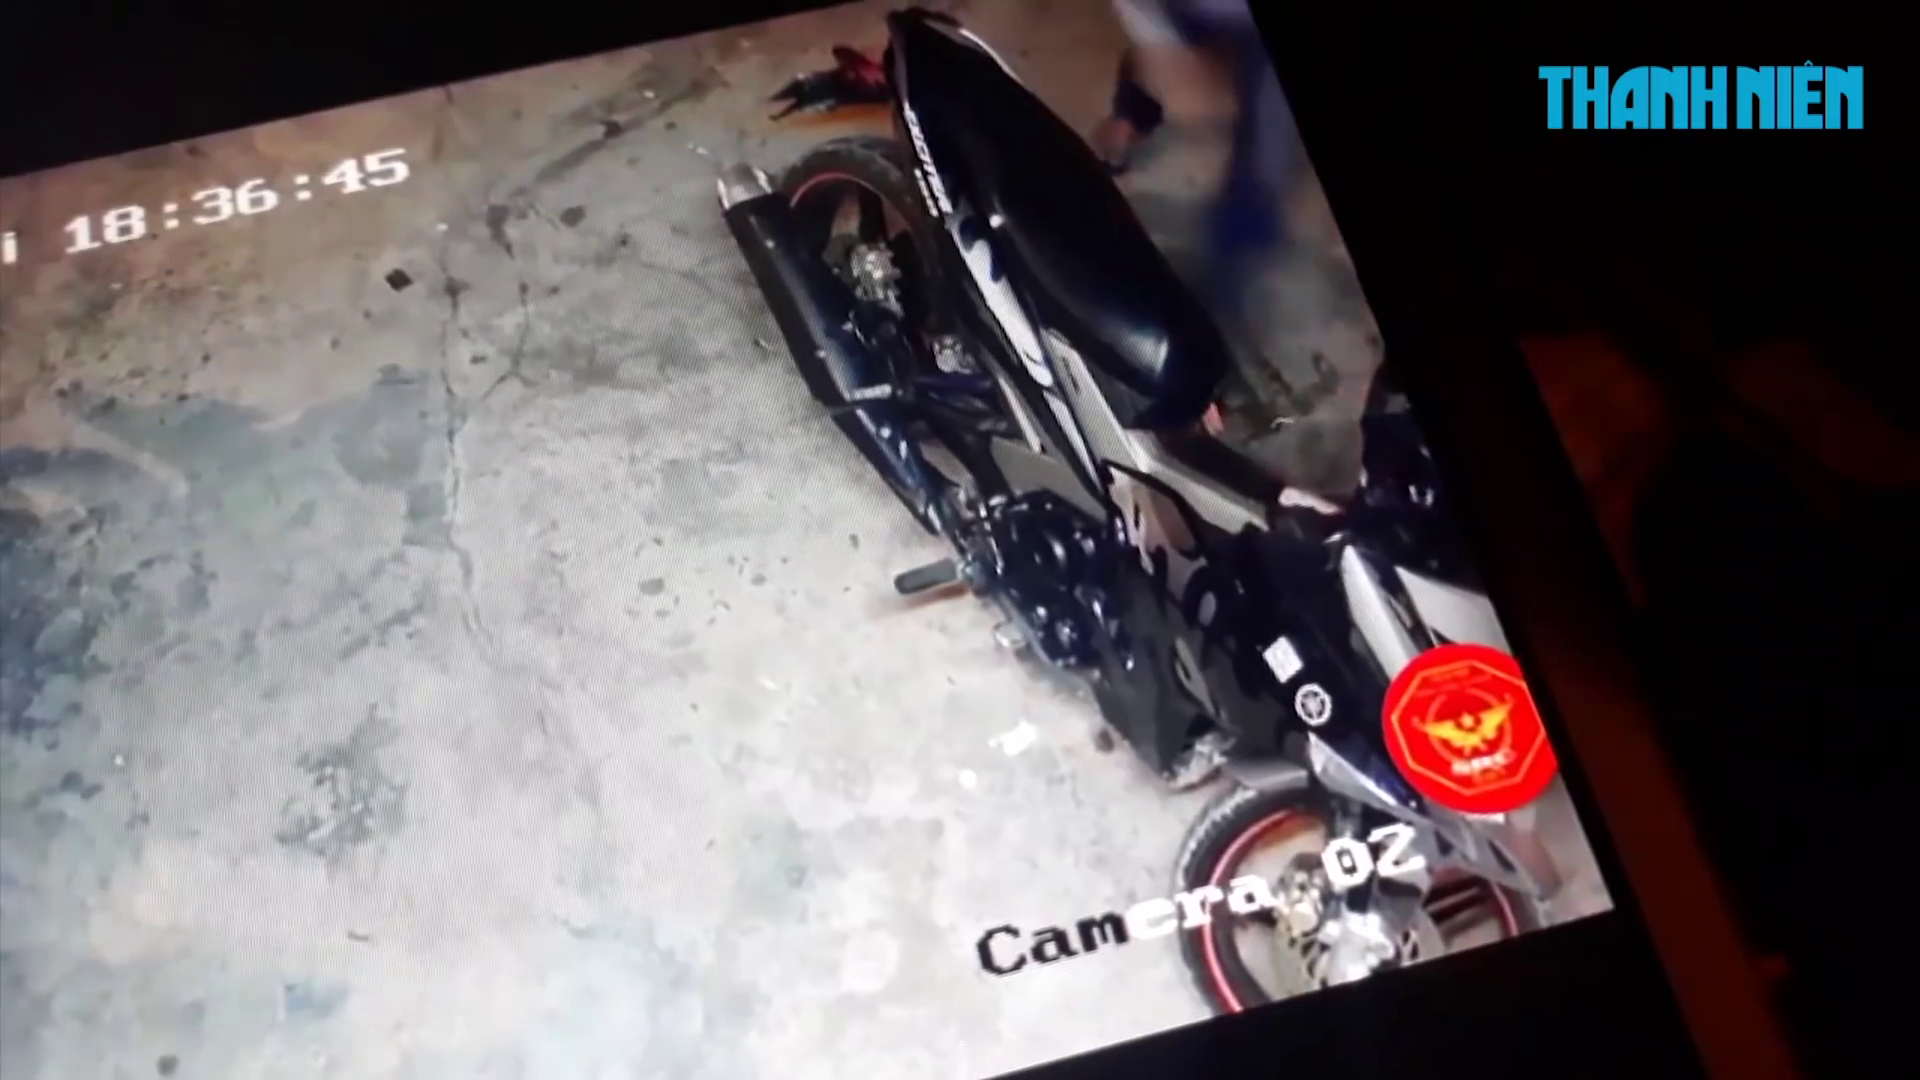Motorcycle: (715, 7, 1627, 1031)
